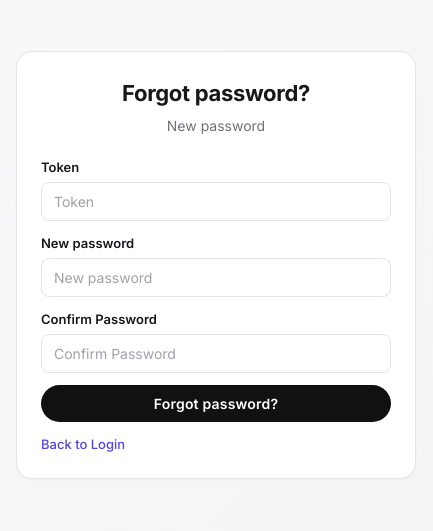
ResetPassword › Validation › should show token required error when empty
Click the button "Forgot password?".
click(216, 403)  # box [41, 385, 391, 422]
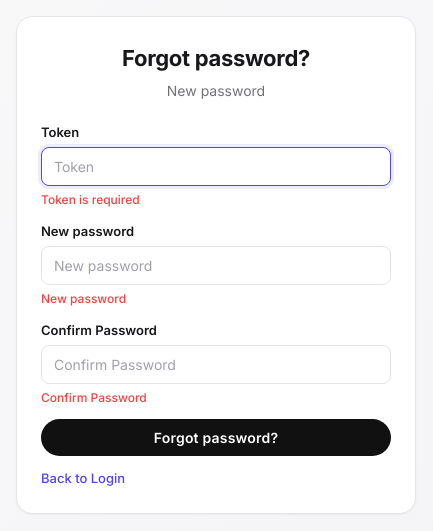
Now the text "Token is required" is shown, box [41, 192, 140, 207]
